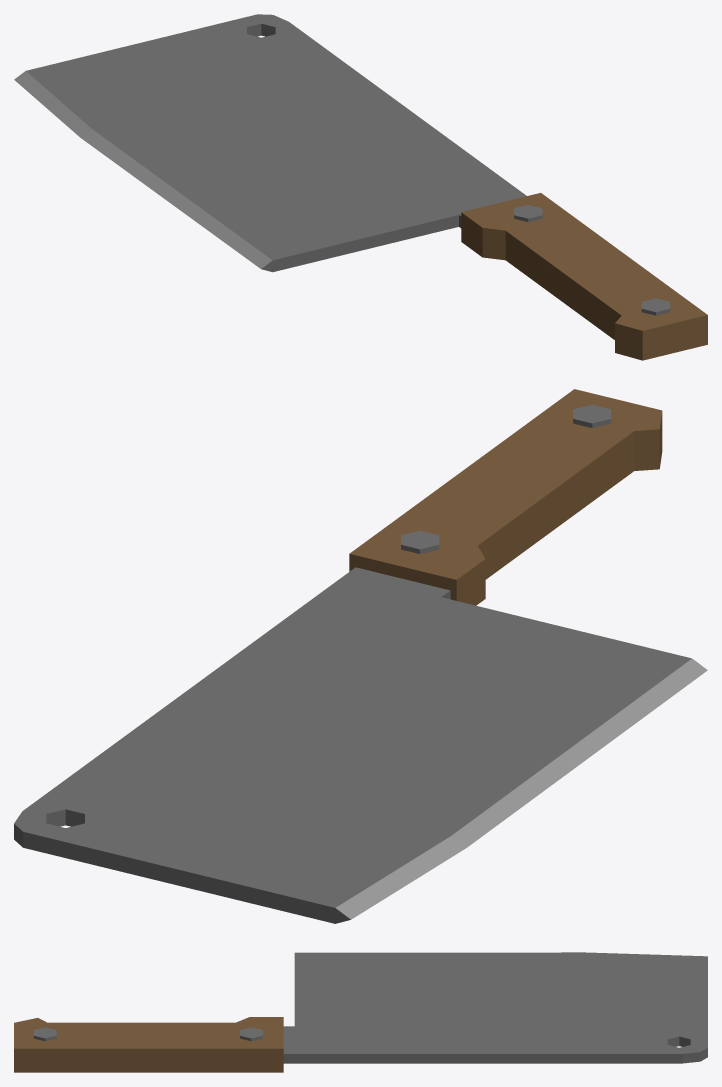
The model's file is Knife_01.fbx.
The picture shows the model from 3 angles, top to bottom: view 1: azimuth 30°, elevation 25°; view 2: azimuth 150°, elevation 25°; view 3: azimuth 270°, elevation 25°; orthographic projection. The views are drawn at different scales.
Parts seen in each view (by area): view 1: Knife_01; view 2: Knife_01; view 3: Knife_01.
Part boxes in pixels (x1,y1,x2,y2): Knife_01: (14,14,707,360); Knife_01: (14,389,707,923); Knife_01: (14,952,707,1072).
Bounding box in the file's own units: 12.45 × 1.6 × 33.85.
